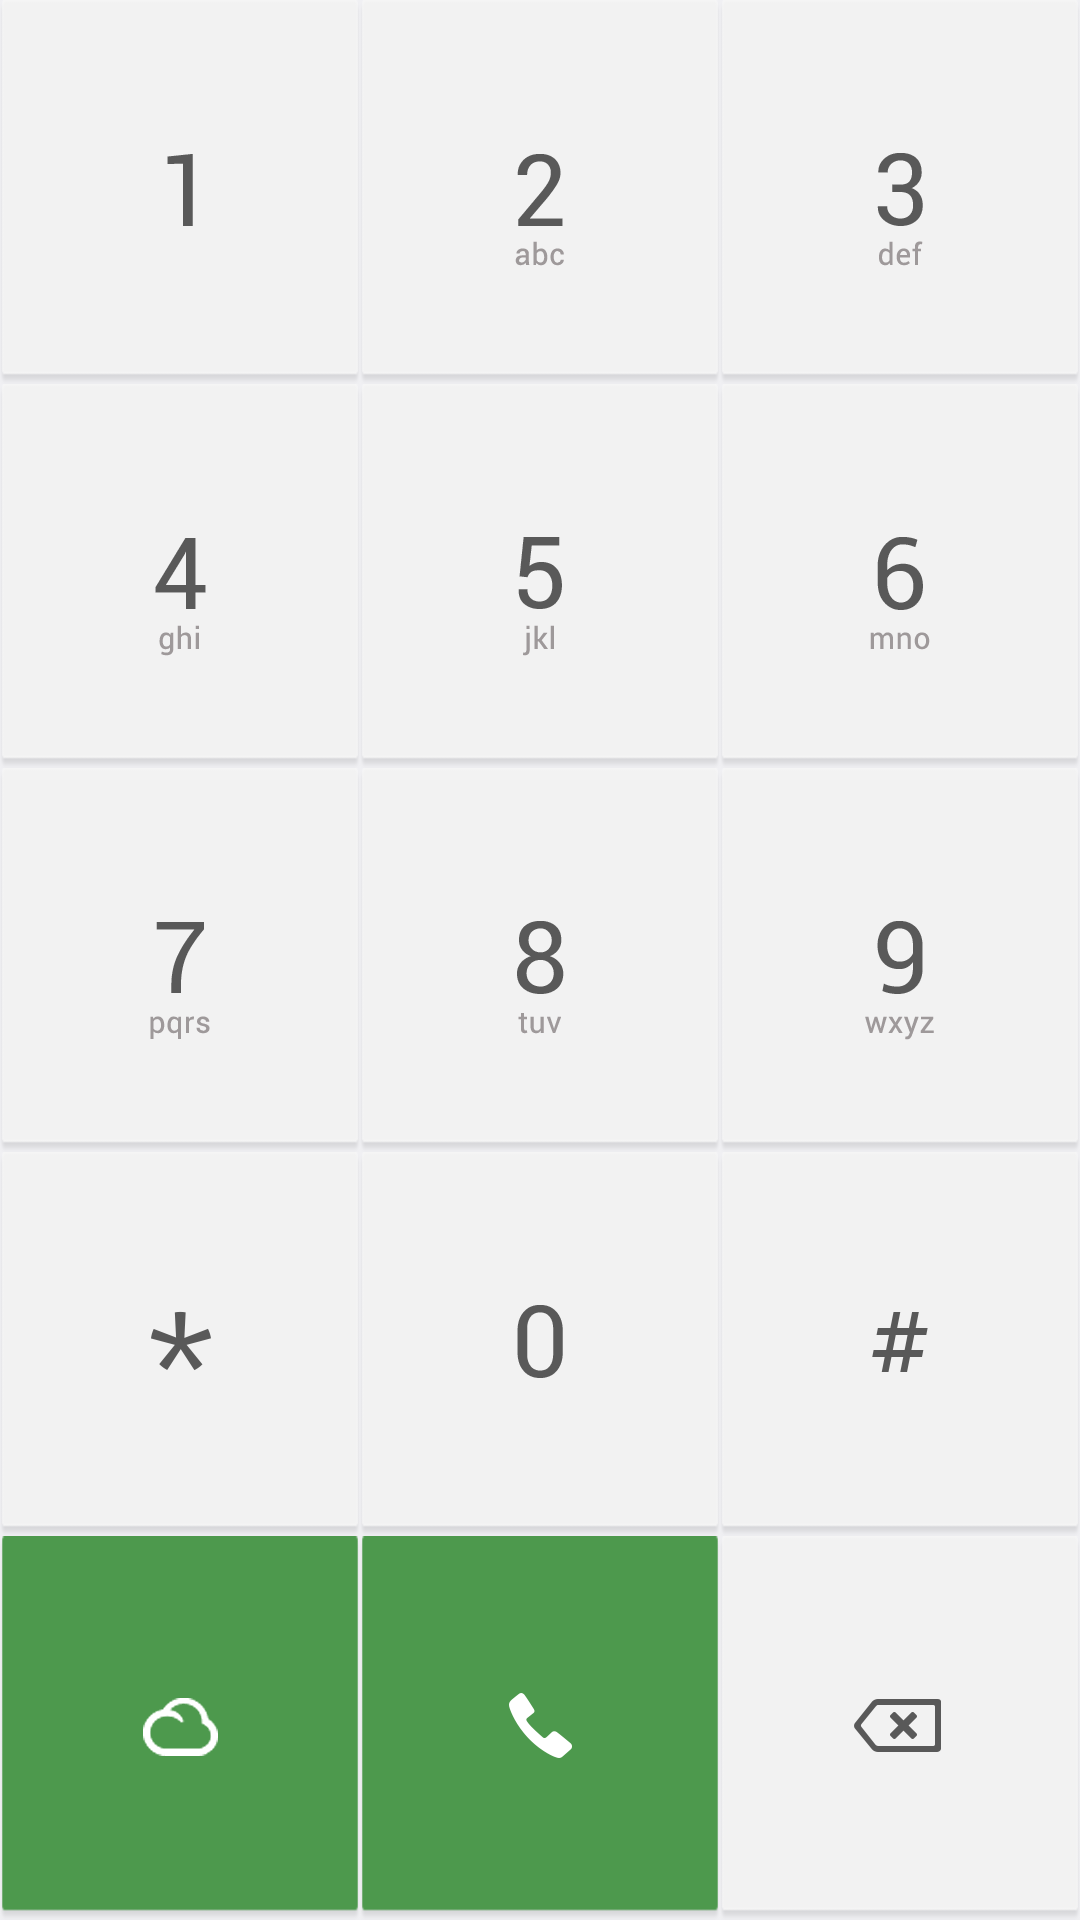

Screen size 1080w x 1920h. Icon name, then its box in pixels as (x1, y1, x2, y2):
dial action delete: (854, 1699, 941, 1752)
dial num pound: (872, 1312, 928, 1372)
dial num star: (151, 1312, 211, 1370)
